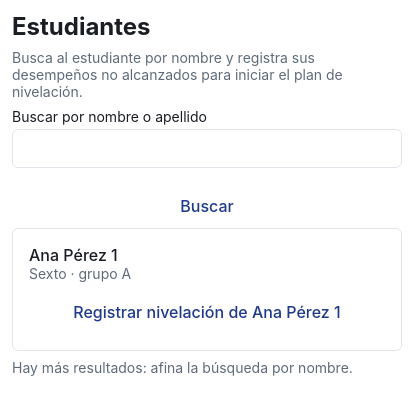
Scenario: busca por nombre y avisa si no hay resultados
Expected: the text "Hay más resultados: afina la búsqueda por nombre." is shown, [12,359,402,376]
Type "zzz" into the field named "Buscar por nombre o apellido" at (207, 148), box [12,129,402,168]
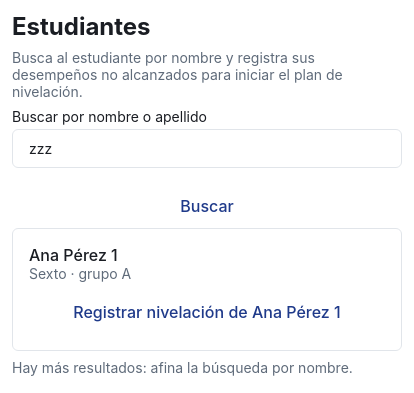
Click the button "Buscar" at (207, 206), box [12,184,402,228]
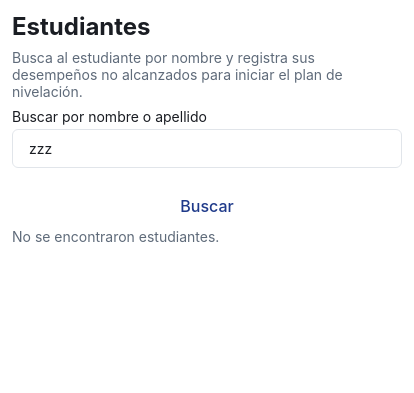
Result: the text "No se encontraron estudiantes." is shown at [12,228,219,245]
